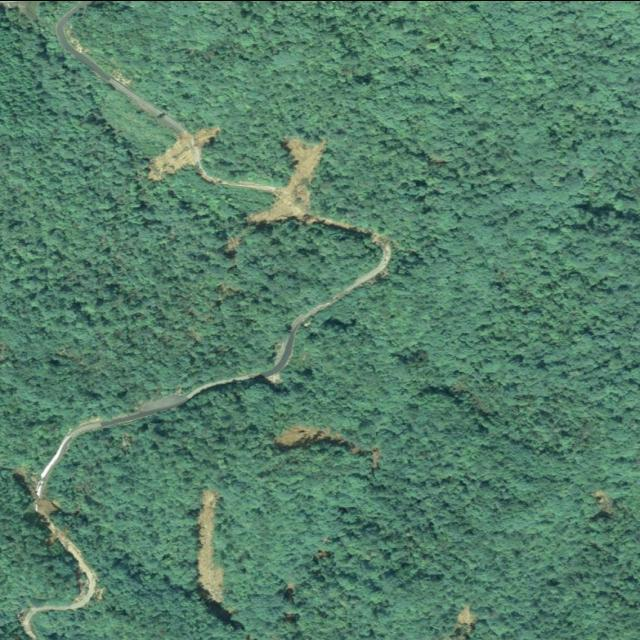landslide: (247, 136, 325, 226), (197, 489, 223, 603), (273, 424, 361, 453), (225, 235, 242, 252), (274, 340, 285, 363)
